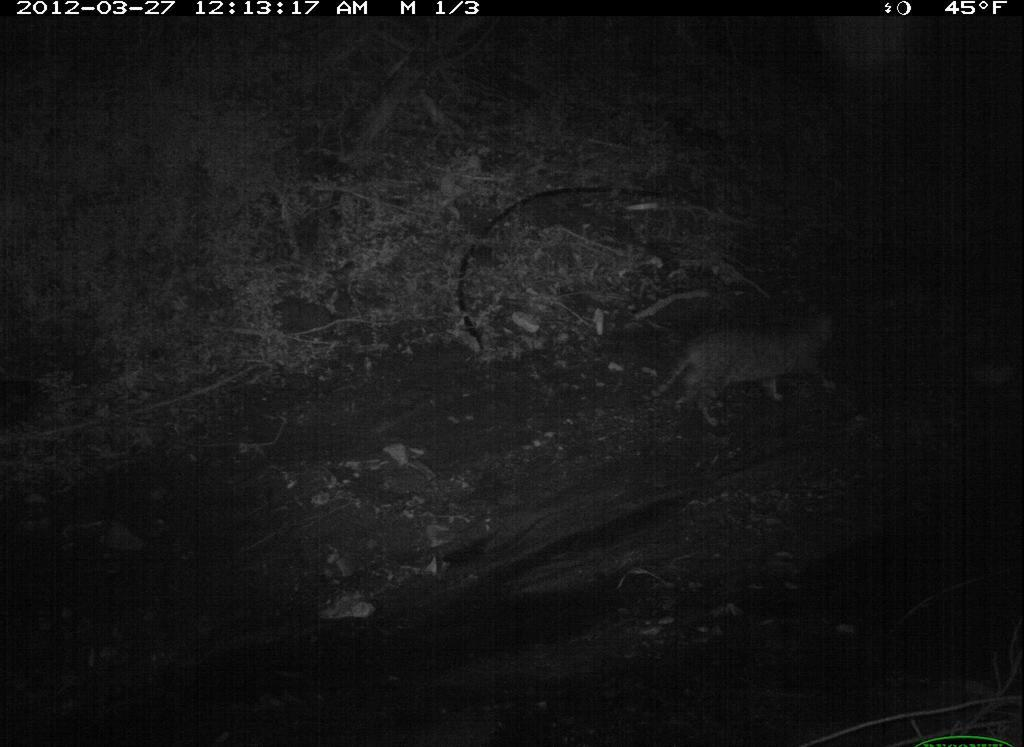cat: (637, 296, 847, 432)
